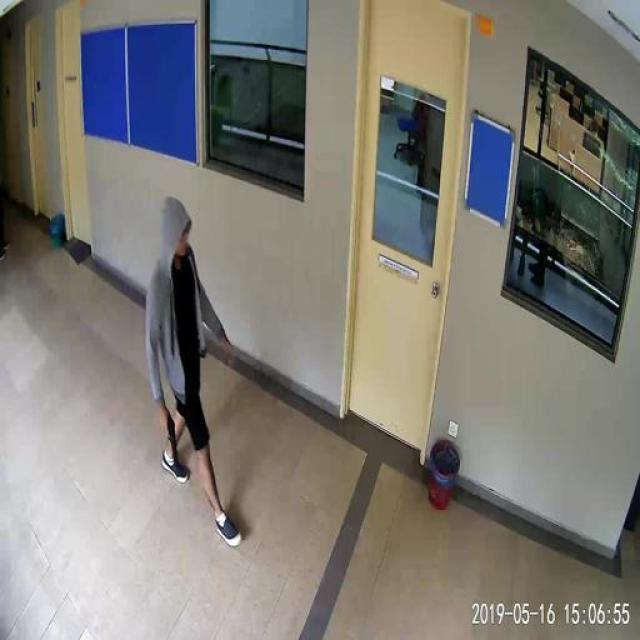Gun: (150, 400, 188, 467)
